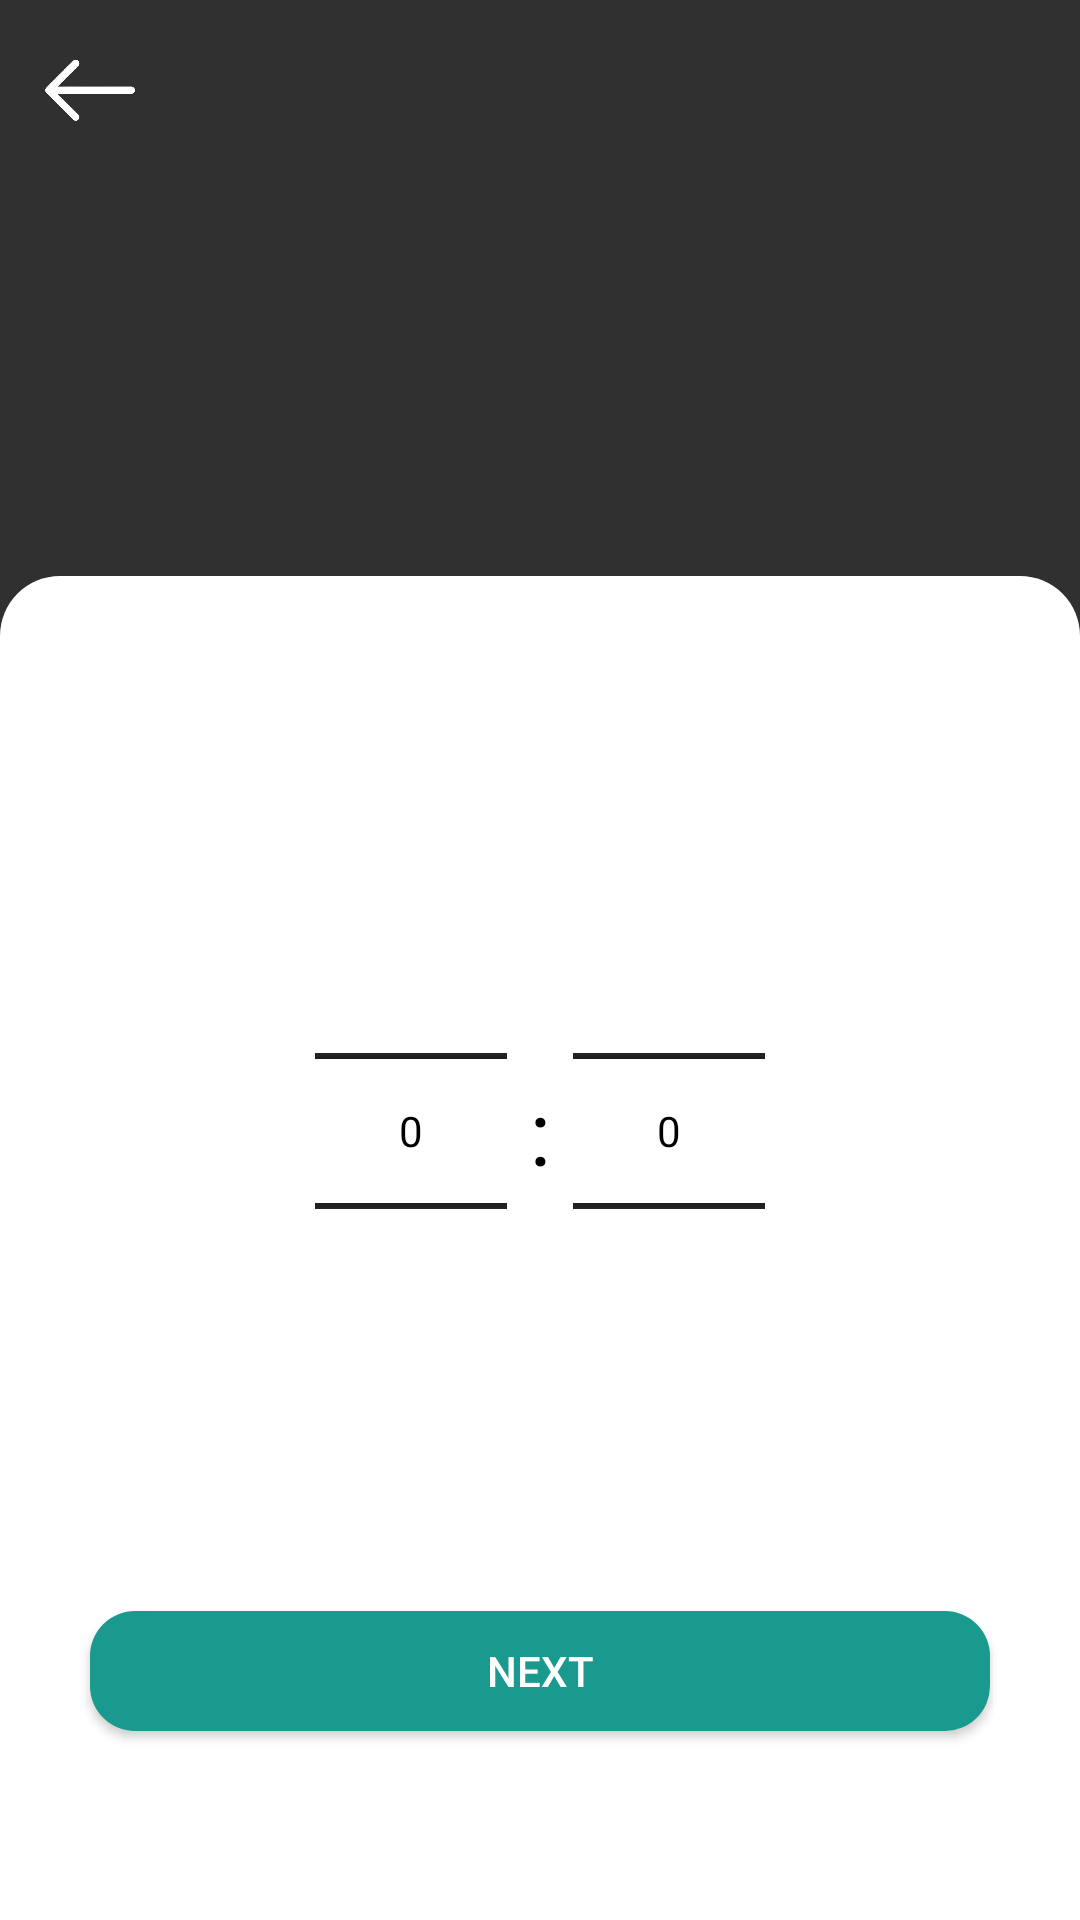

Where icons sit on this 1080 × 1920 app screen, as bbox=(x1, y1, x2, y2):
back: bbox=(45, 59, 135, 121)
